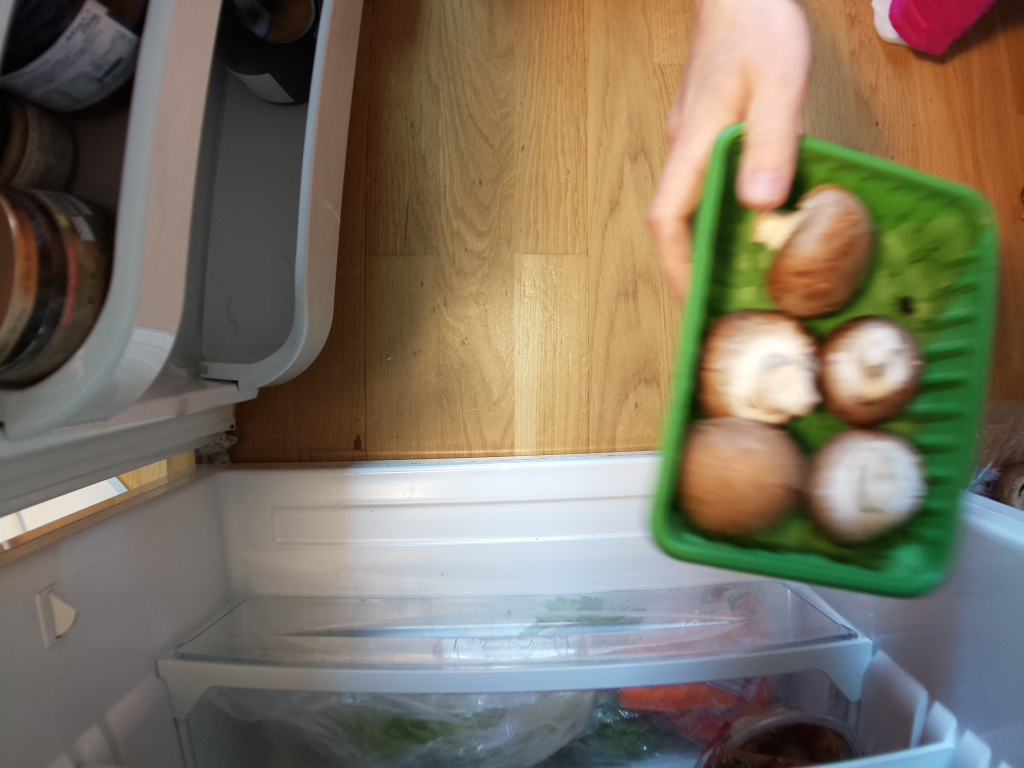mushrooms: (652, 111, 997, 602)
